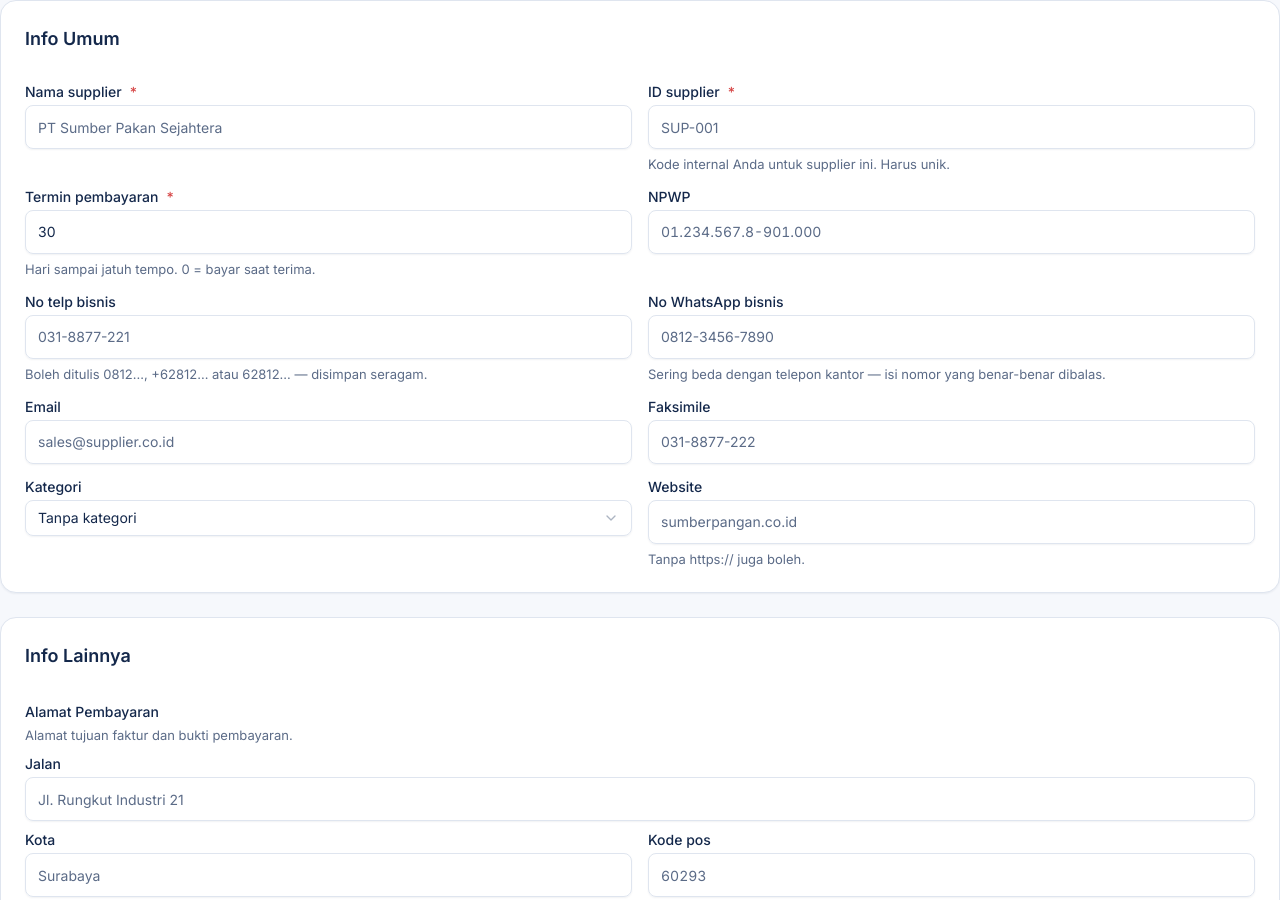
Test: SupplierCreateForm › offers only active supplier categories
Click the dropdown labelled "kategori" at (87, 517), box [25, 500, 632, 536]
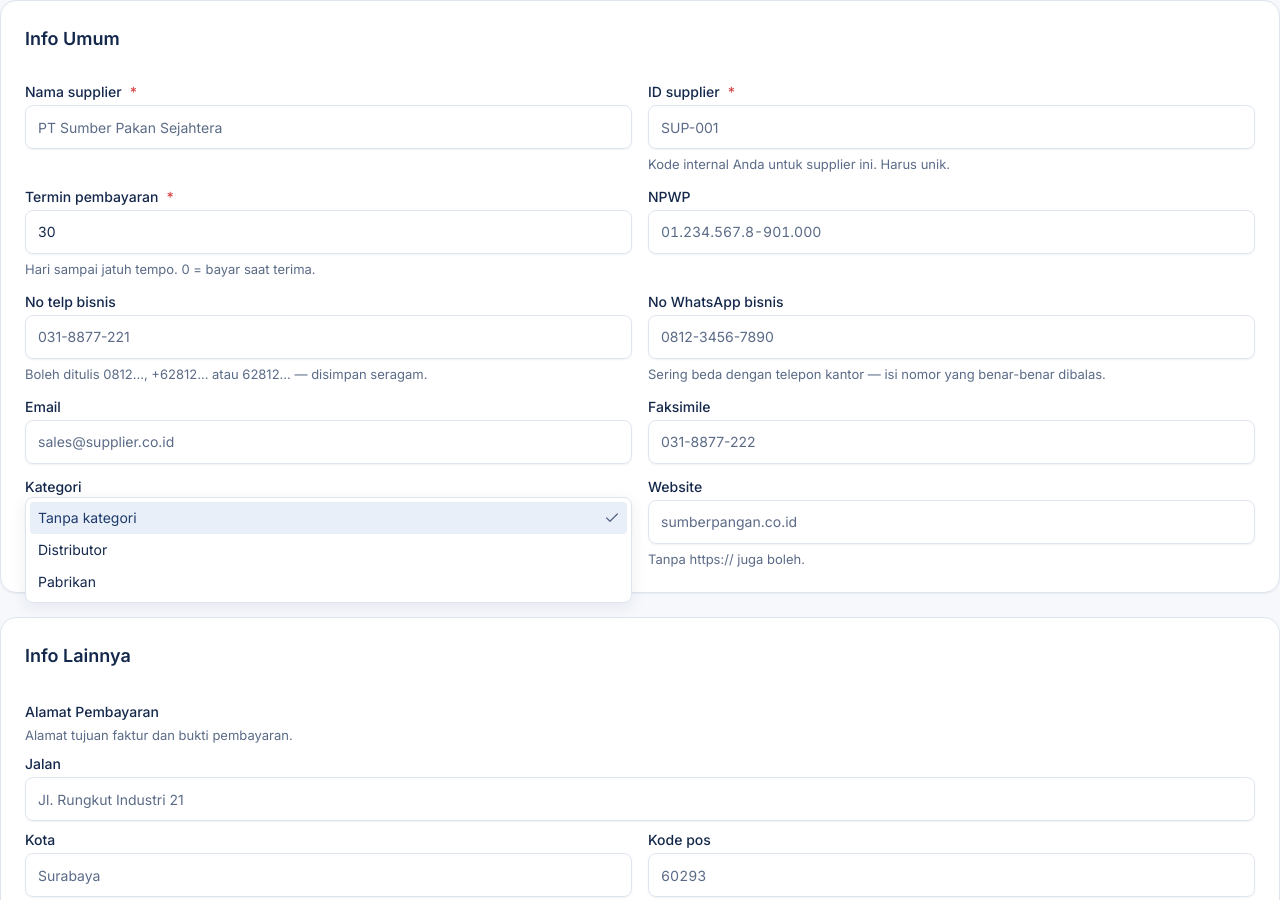
Result: the option "Distributor" is shown at [38, 540, 107, 558]
Result: the option "Tanpa kategori" is shown at [30, 502, 627, 534]
